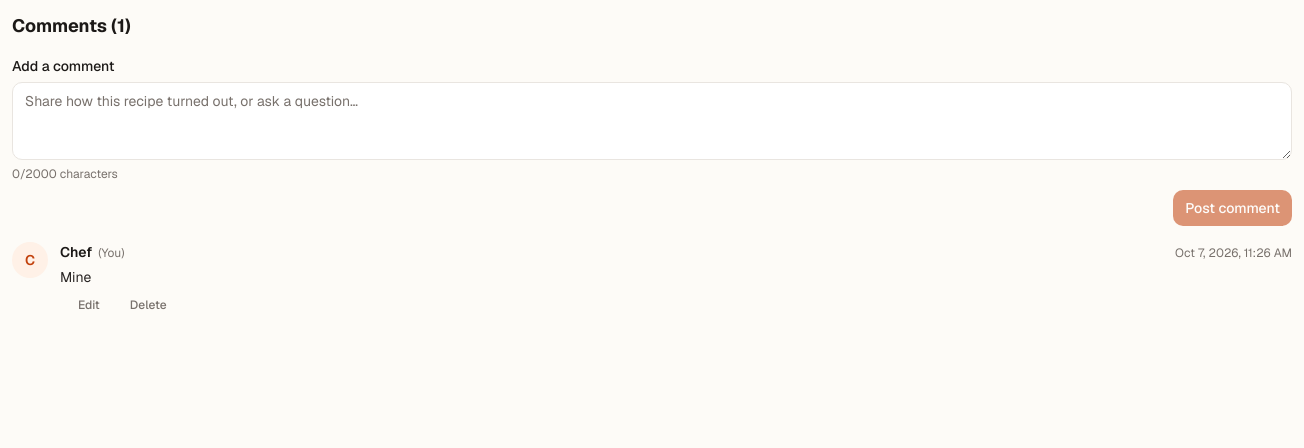
Test: CommentSection parent count sync (setState-in-render regression) › deleting a comment notifies the parent without updating it mid-render
Check: the text "Mine" is shown, box x1=60 y1=268 x2=91 y2=286
Click the button "Delete". click: (139, 305)
box: x1=112 y1=297 x2=167 y2=313
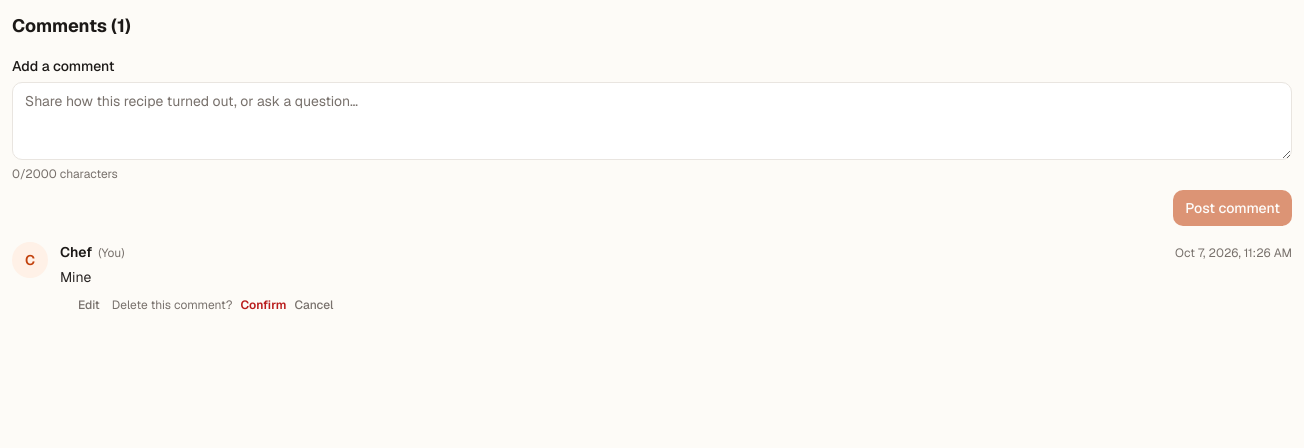
Click the button "Confirm". click: (263, 305)
box: x1=240 y1=297 x2=286 y2=313
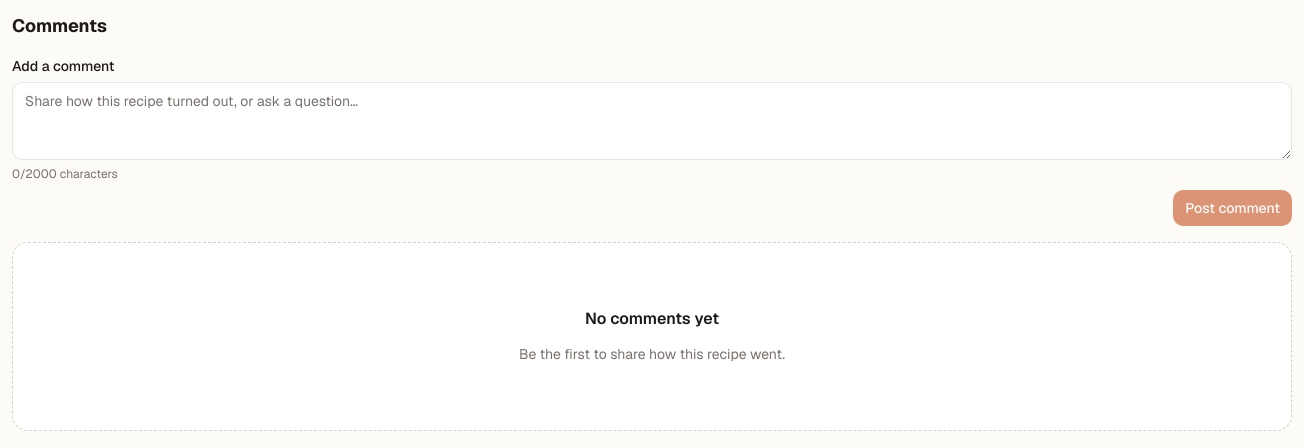
Check: the text "Mine" is gone
